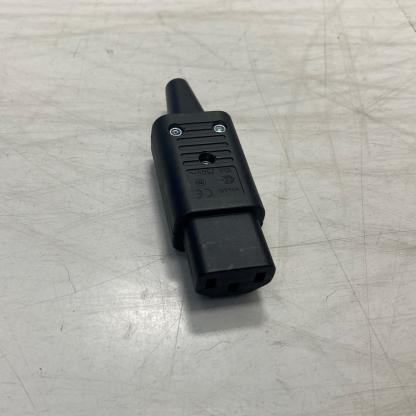SP0000006: (89, 52, 327, 366)
